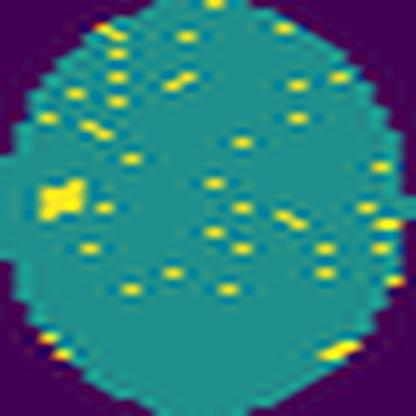Loc: (35, 176, 87, 225)
